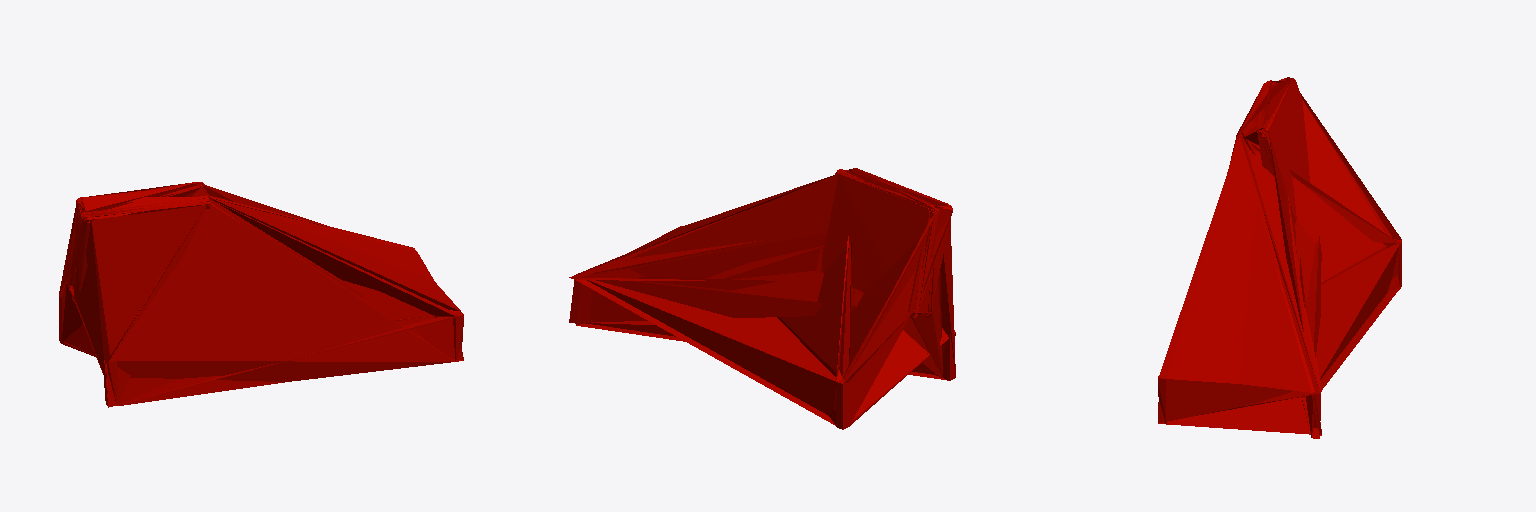
File: Couch.obj
3 views of the same model, side by side, from view 1: azimuth 30°, elevation 25°; view 2: azimuth 150°, elevation 25°; view 3: azimuth 270°, elevation 25° (orthographic).
Visible parts, largest first — view 1: Box001, Box003; view 2: Box003, Box001; view 3: Box001, Box003.
Part boxes in pixels (x1,y1,x2,y2): Box001: (59,196,463,405); Box003: (59,182,463,407); Box003: (569,168,955,428); Box001: (569,171,955,429); Box001: (1158,80,1401,435); Box003: (1158,77,1401,438).
Size of the model in its own units: 152545 by 78173 by 90410.